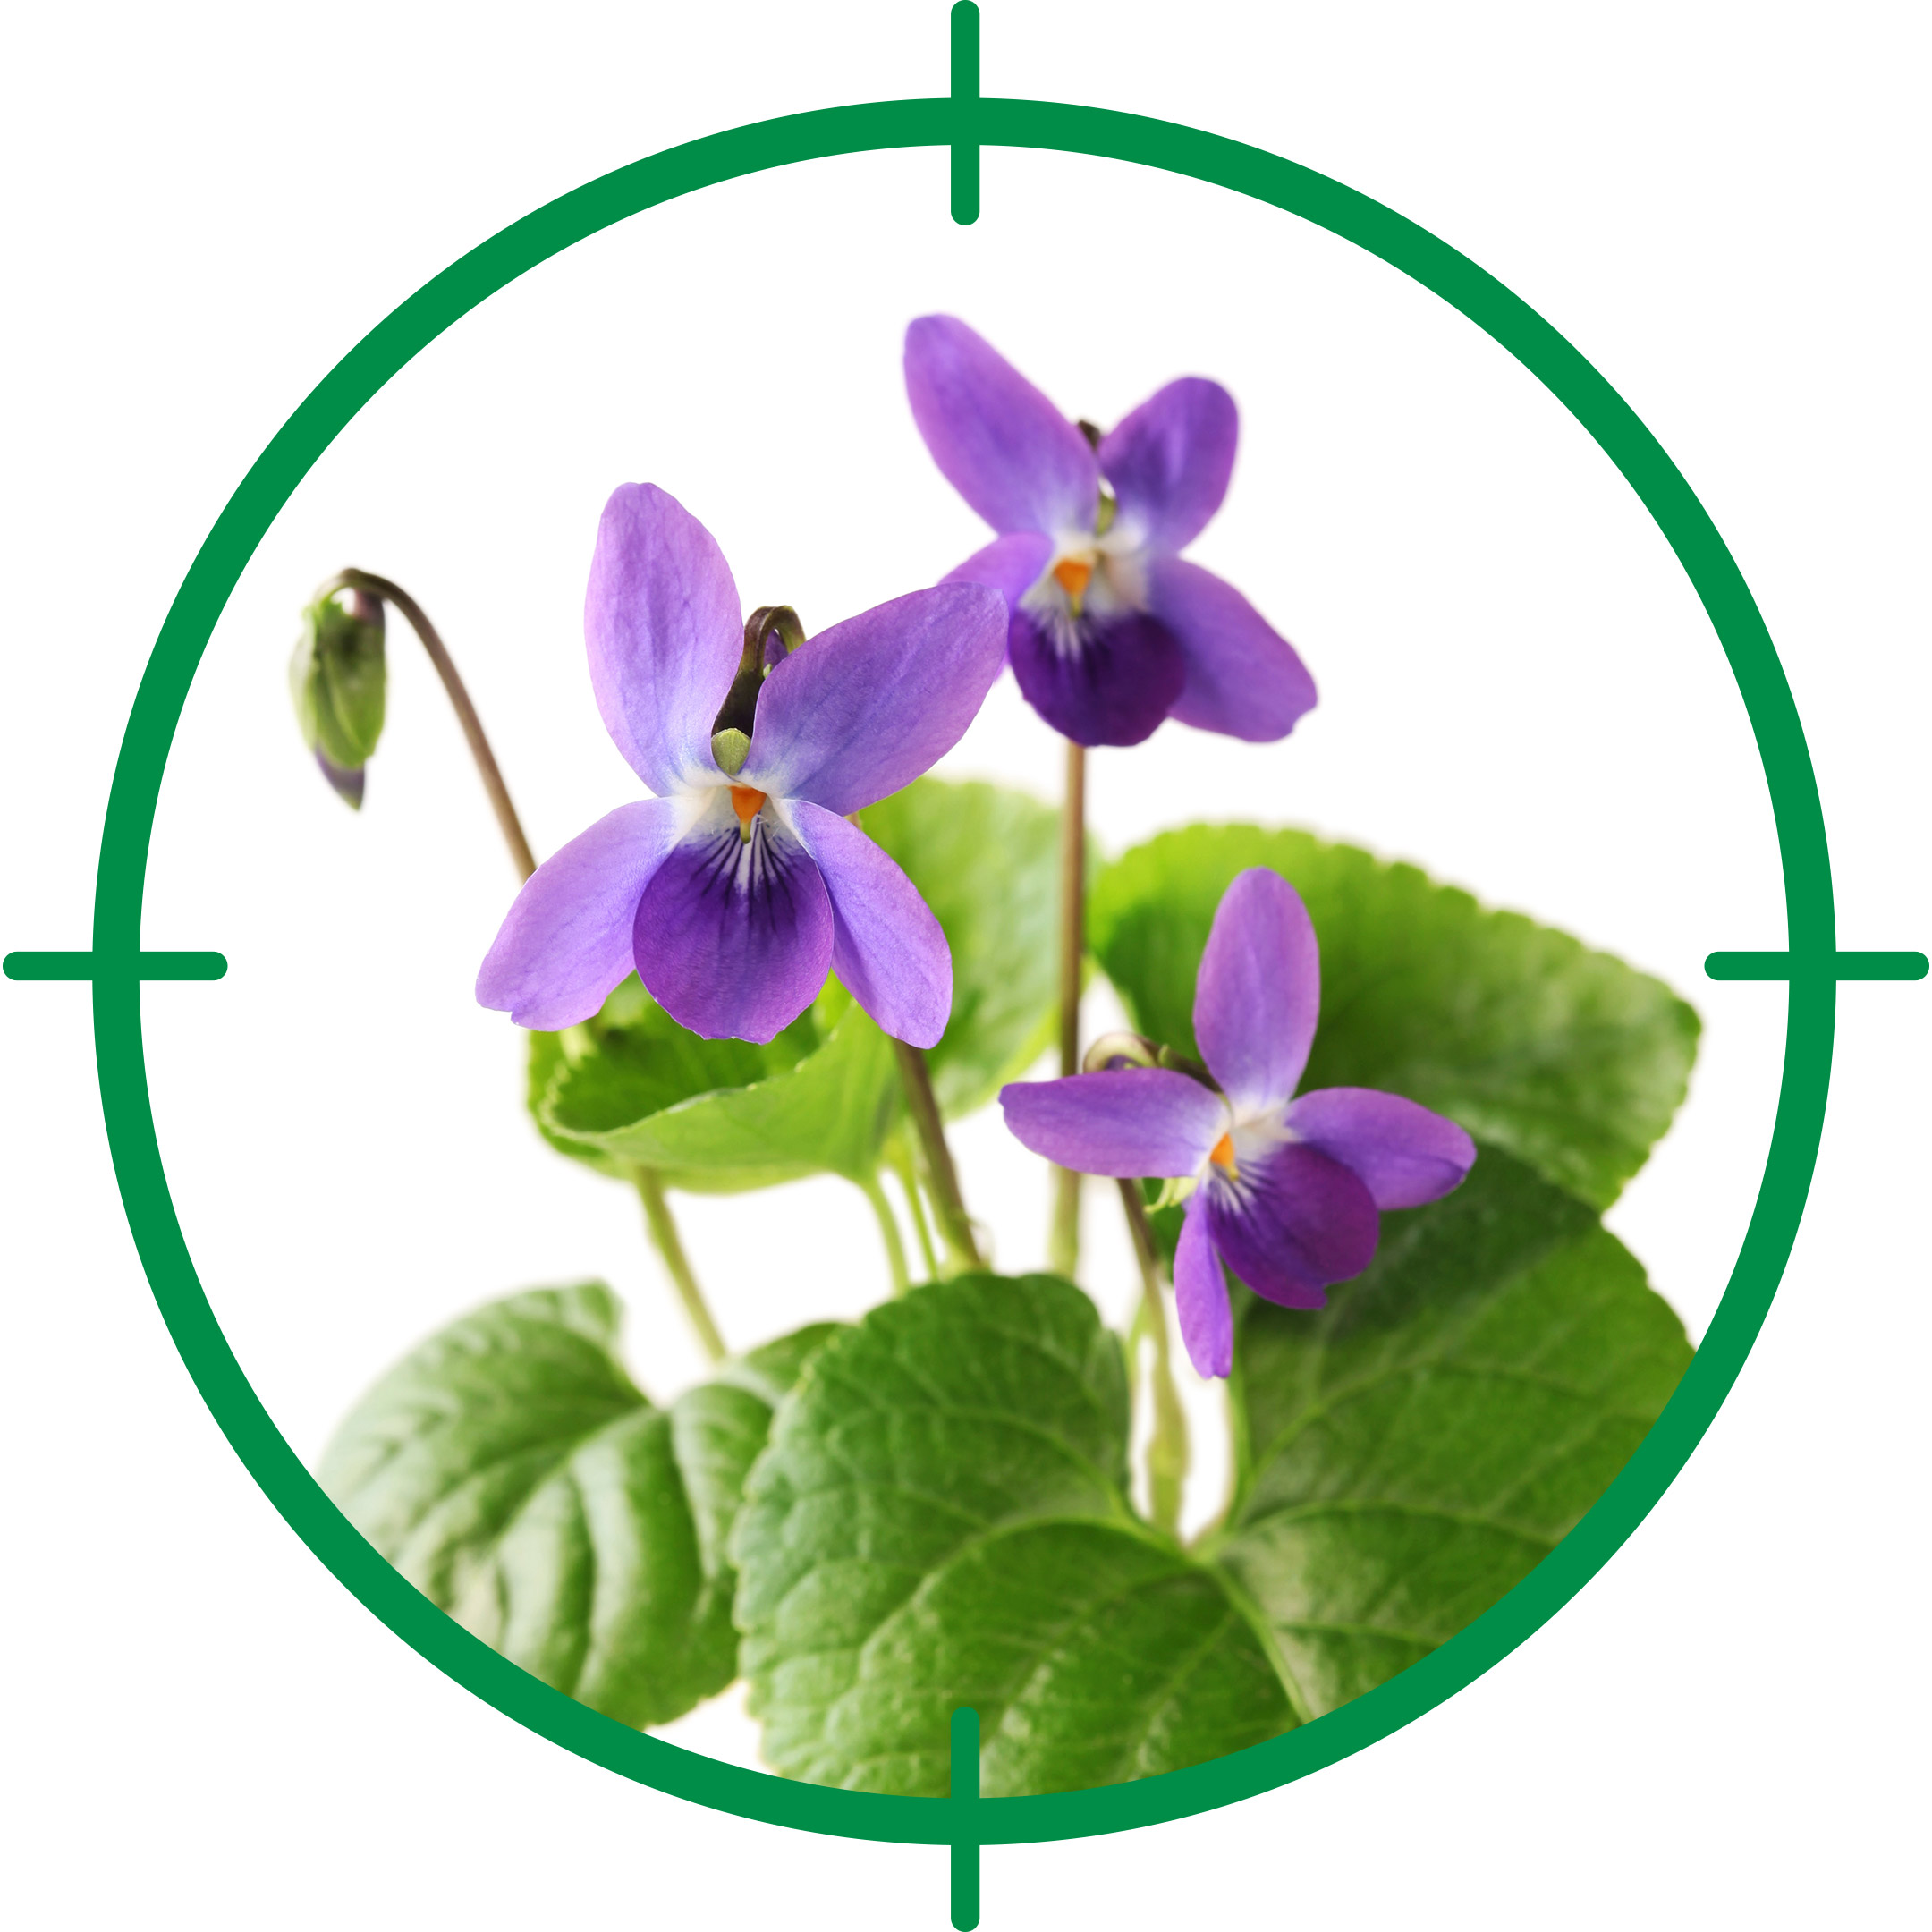violet: (994, 844, 1543, 1401), (506, 499, 973, 1042), (892, 310, 1329, 773)
